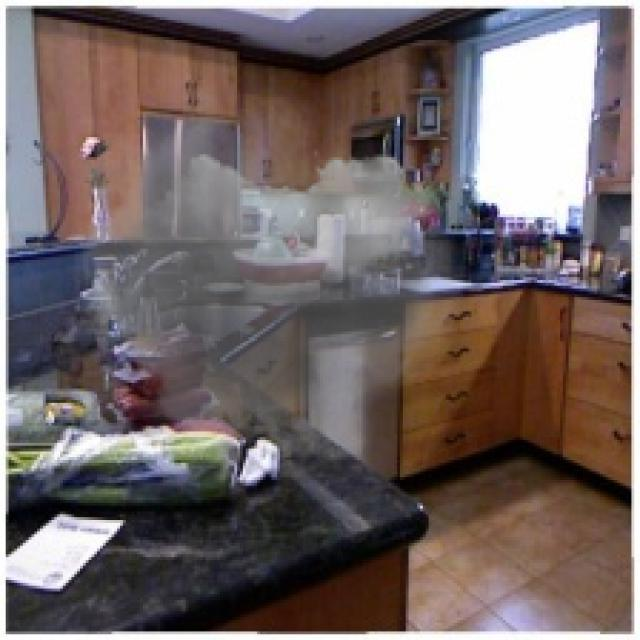Smoke: (60, 71, 466, 480)
